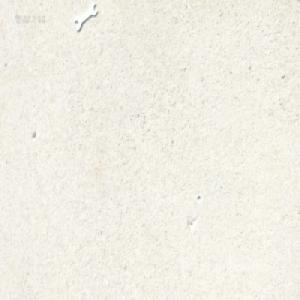Wrench: (74, 8, 97, 35)
